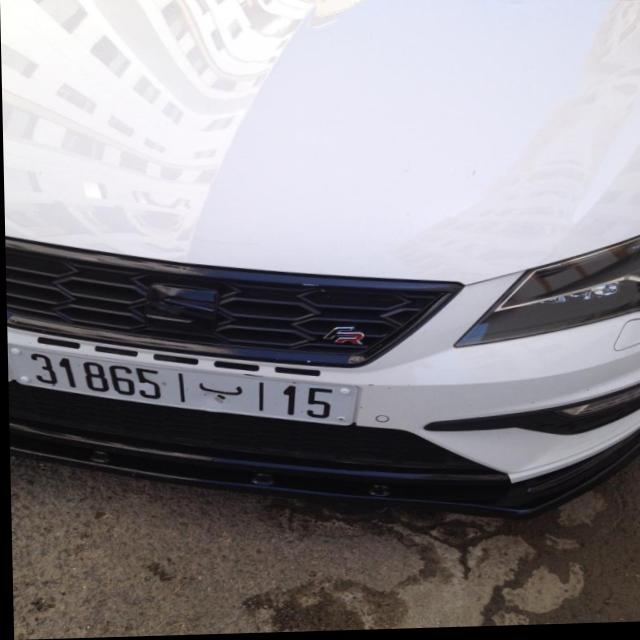License-Plate: (9, 346, 357, 427)
